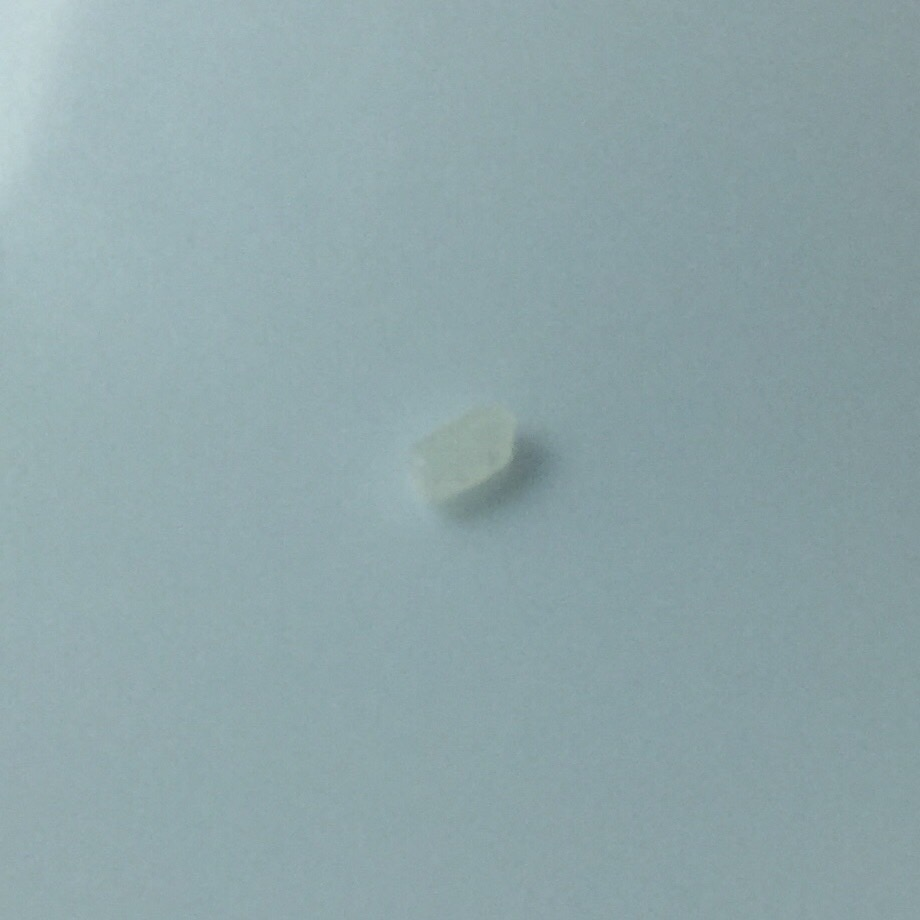Gao Tam: (406, 386, 536, 522)
